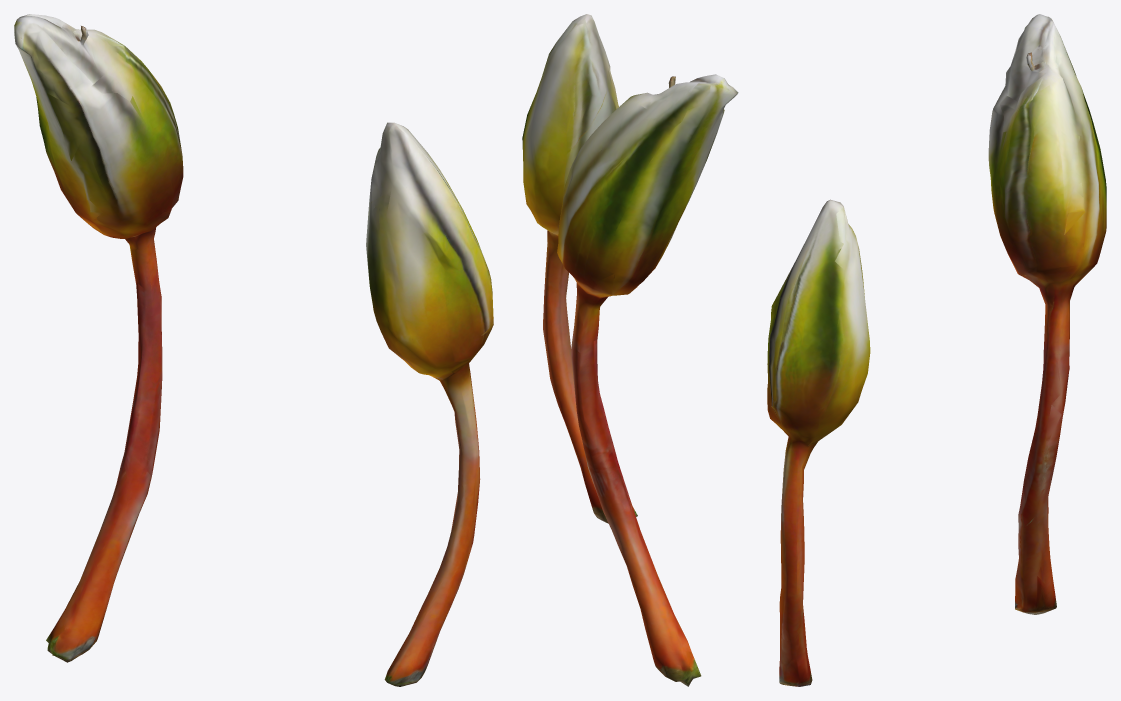
The model's file is Lotus_NewPod.glb.
The picture shows the model from 3 angles, left to right: view 1: azimuth 30°, elevation 25°; view 2: azimuth 150°, elevation 25°; view 3: azimuth 270°, elevation 25°; orthographic projection. The views are drawn at different scales.
Parts seen in each view (by area): view 1: Mesh1; view 2: Mesh1; view 3: Mesh1.
Part boxes in pixels (box(x1,y1,x2,y2)): Mesh1: box(14, 14, 493, 686); Mesh1: box(522, 14, 738, 686); Mesh1: box(767, 14, 1106, 686).
Bounding box in the file's own units: 1.11 × 2 × 1.06.
Materials: 1 (1 with a texture image).
